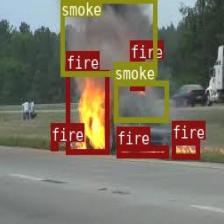fire: (66, 69, 108, 153), (116, 144, 168, 156), (171, 139, 199, 158), (129, 58, 143, 89), (50, 141, 58, 149)
smoke: (60, 0, 156, 75), (114, 80, 168, 121)
